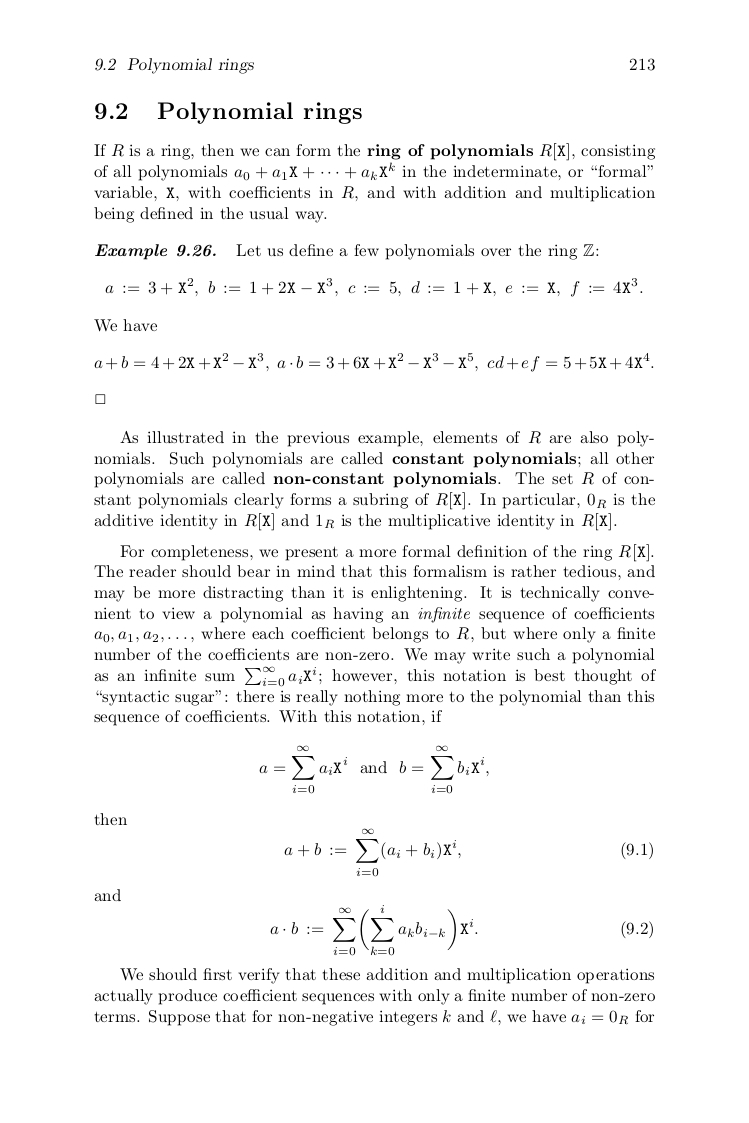formula: (270, 904, 652, 956), (284, 828, 652, 876), (94, 352, 653, 372), (259, 745, 488, 793), (105, 277, 642, 297)
